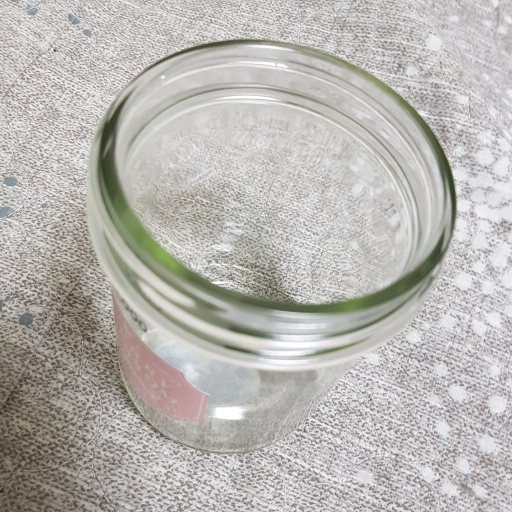Glass_5: (88, 38, 456, 454)
